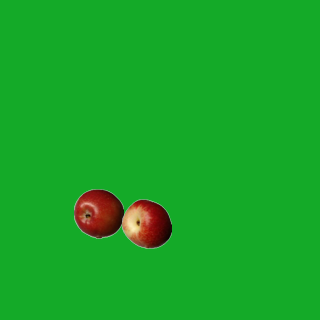Apple Braeburn: (73, 188, 123, 238)
Nectarine: (121, 198, 171, 248)
